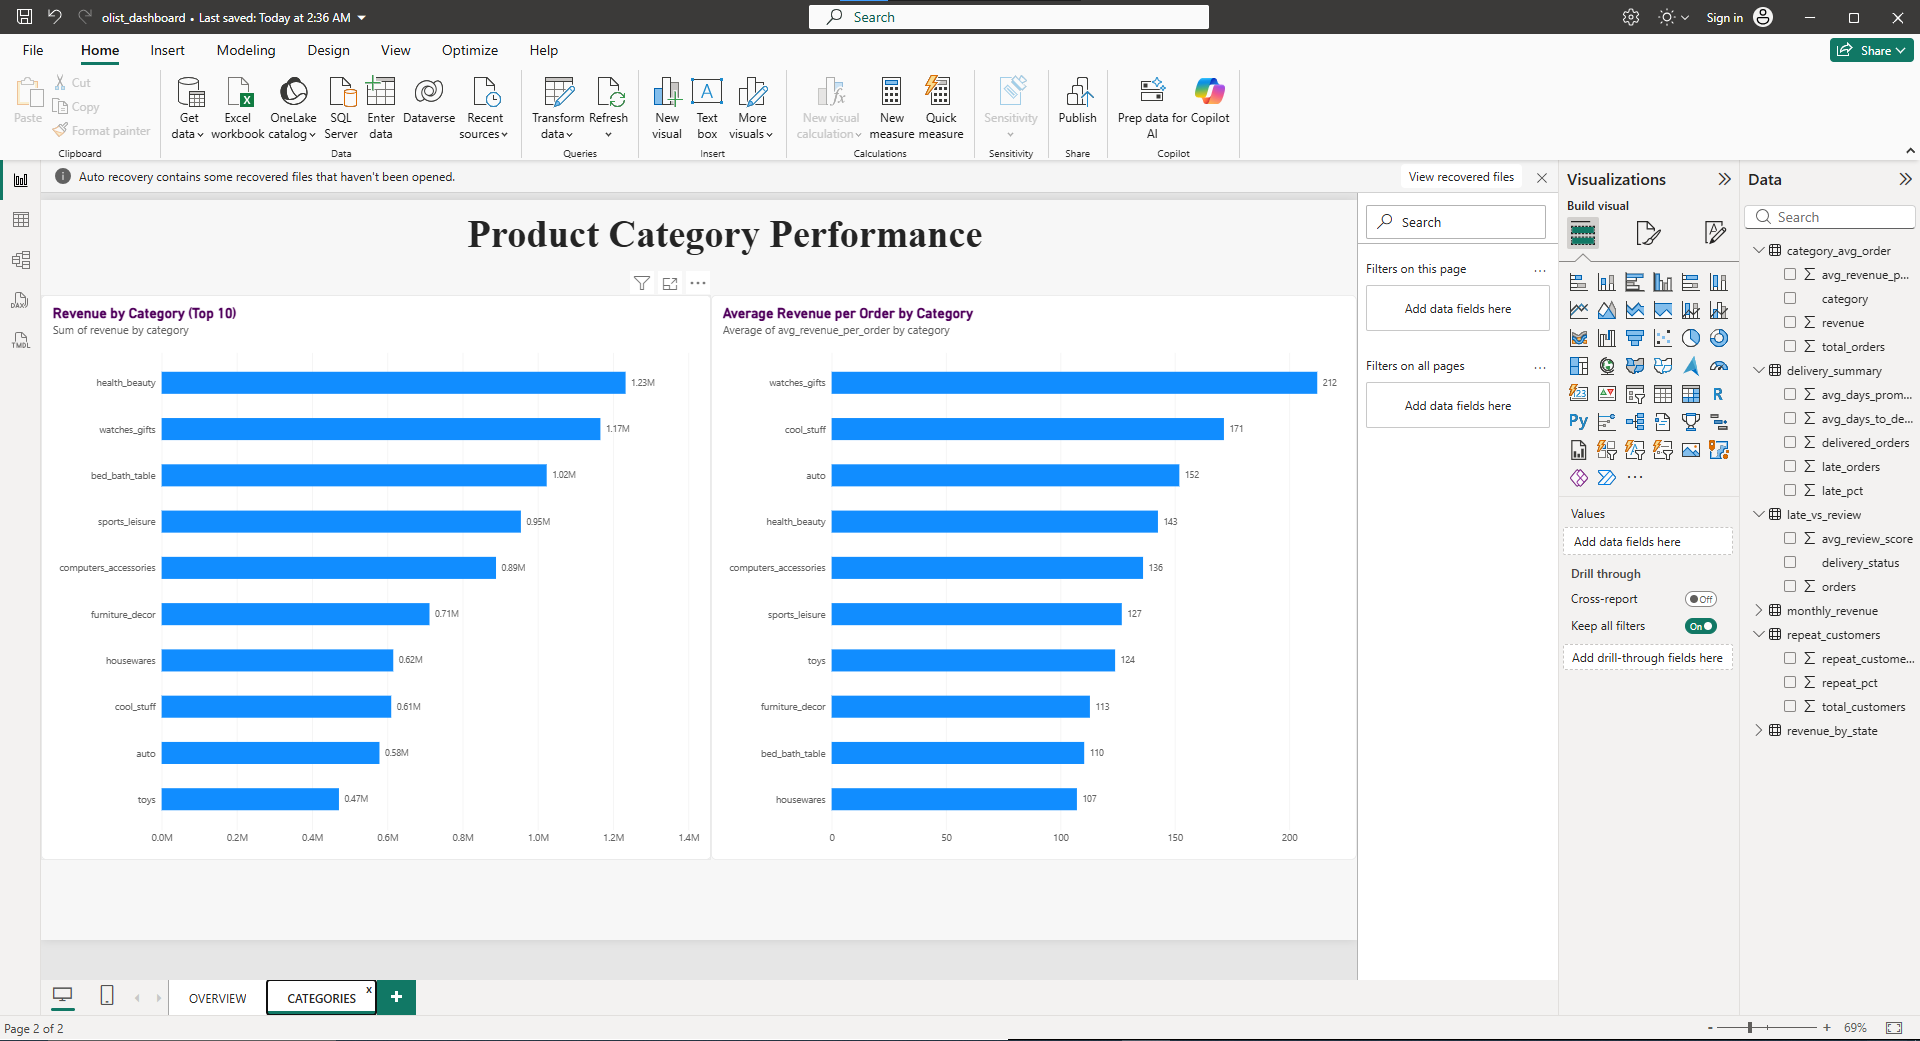

This screenshot's page, from the dashboard's own definition file:
{"tool":"powerbi","page":{"name":"Page 2","canvas":[1920,1080],"ordinal":1},"visuals":[{"type":"clusteredBarChart","title":"Revenue by Category  (Top 10)","fields":{"Category":["category_avg_order.category"],"Y":["Sum(category_avg_order.revenue)"]},"box":[0,138.6,977.5,824.3],"z":0},{"type":"clusteredBarChart","title":"Average Revenue per Order by Category","fields":{"Category":["category_avg_order.category"],"Y":["Avg(category_avg_order.avg_revenue_per_order)"]},"box":[977.5,138.6,942.5,824.3],"z":1},{"type":"textbox","box":[100.7,17.5,1794.5,103.6],"z":2}]}

Visuals, with their boxes on the page's 1920x1080 design canvas (x1, y1, x2, y2). These are canvas units, not pixel positions in the 1920x1041 screenshot, which may show the page scaled, cropped or inside an application window:
"Revenue by Category  (Top 10)" clusteredBarChart: rect(0, 139, 978, 963)
"Average Revenue per Order by Category" clusteredBarChart: rect(978, 139, 1920, 963)
textbox: rect(101, 18, 1895, 121)
